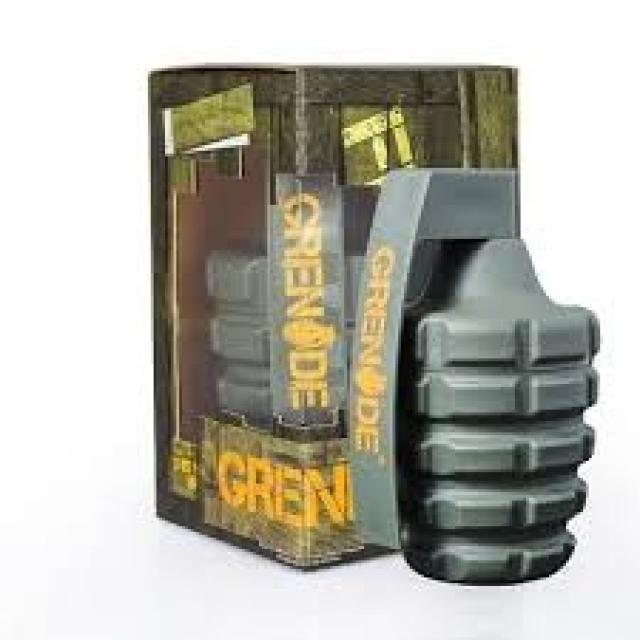grenade: (349, 165, 604, 591)
